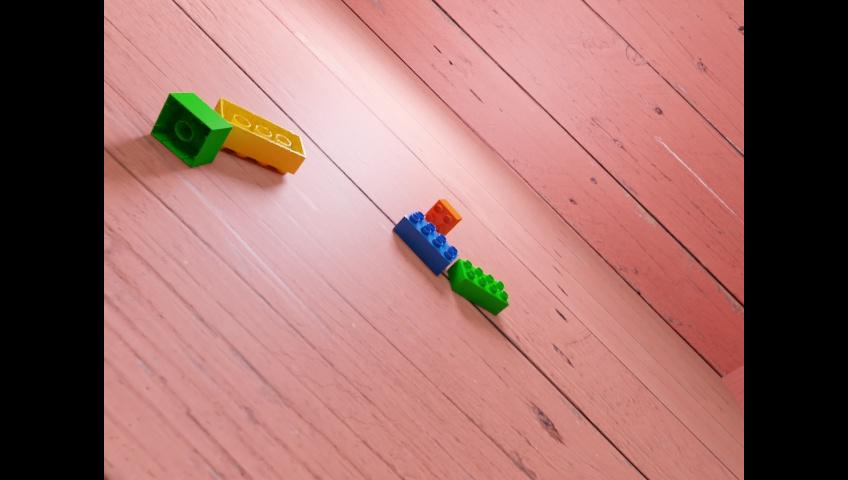2x2_green: (150, 92, 232, 167)
2x2_orange: (424, 198, 462, 235)
4x2_blue: (392, 210, 457, 275)
4x2_green: (447, 257, 508, 315)
4x2_yellow: (213, 96, 305, 174)
